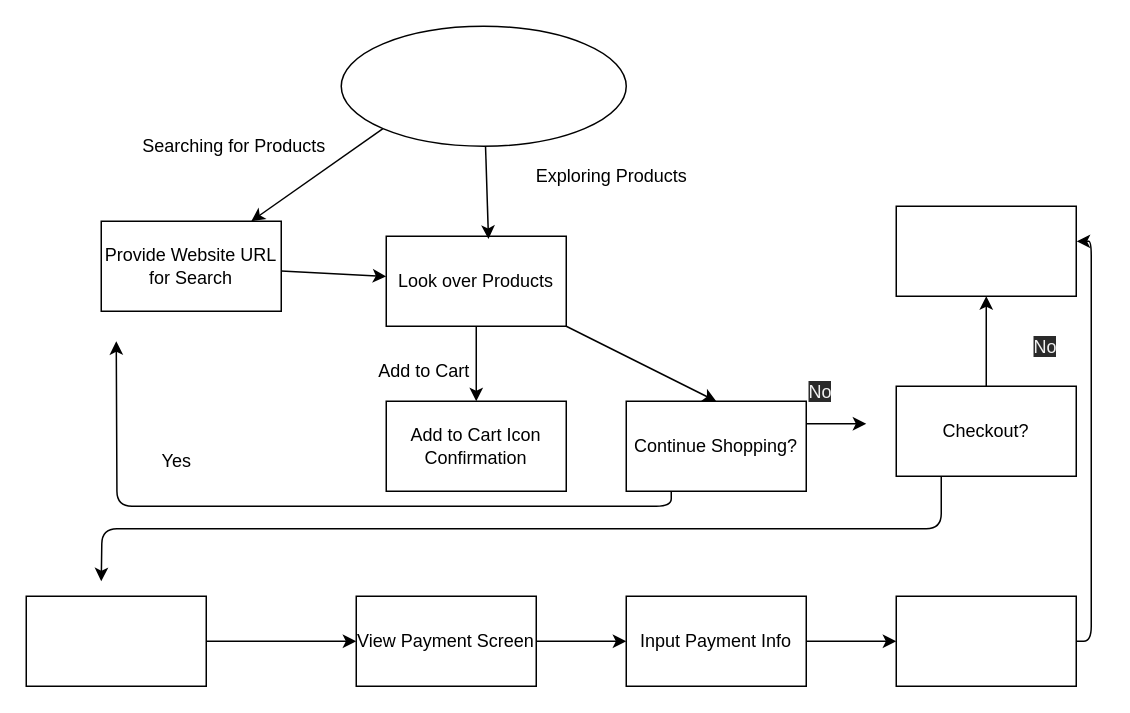
This 1130x713 diagram has some shape labels left out. The centre of each missing label's shape, as x and y in pixels:
"Leave Website" belongs at point 985,250.
"User Enters Website" belongs at point 483,85.
"Validation Step of Confirming and Sendign Email" belongs at point 985,640.
"View Cart Screen" belongs at point 115,640.
